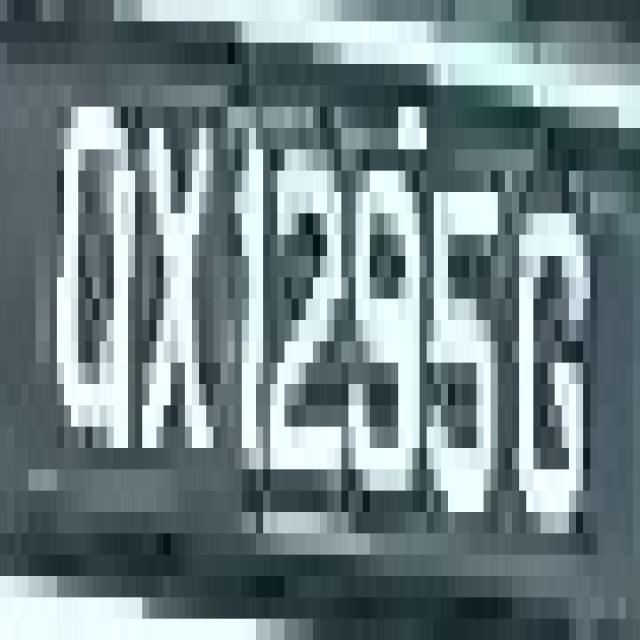1: (221, 85, 263, 555)
2: (249, 64, 348, 491)
5: (412, 128, 505, 533)
9: (341, 128, 427, 576)
G: (519, 150, 597, 598)
Q: (50, 42, 142, 426)
X: (128, 107, 220, 469)
